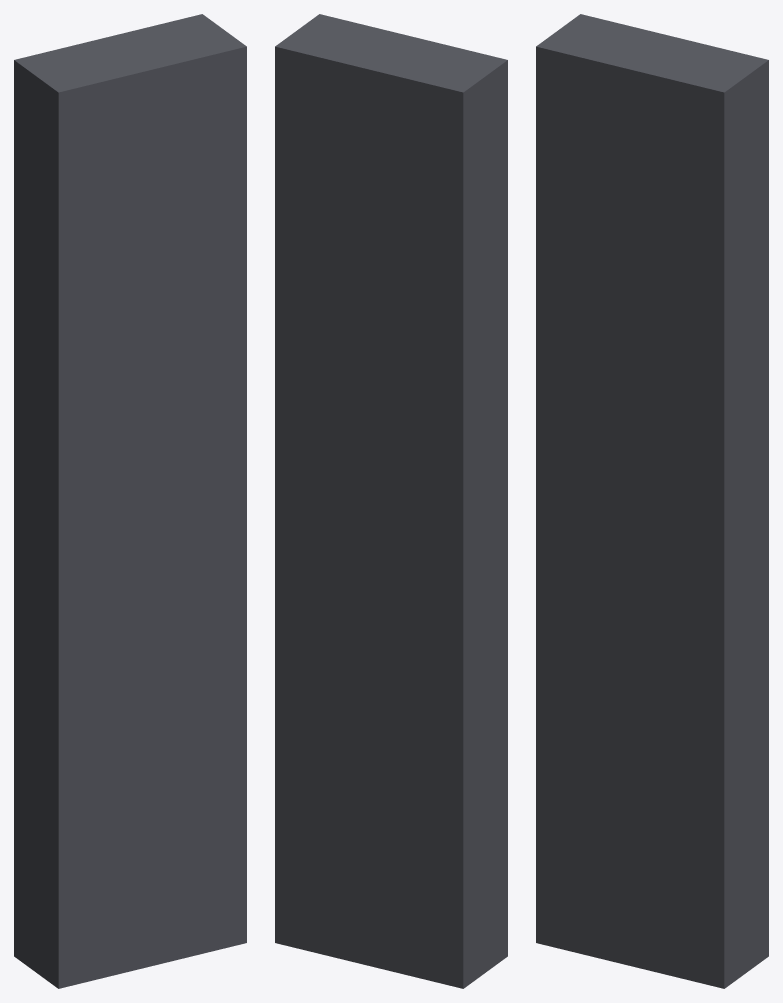
File: Mount_AR_CarryHandle.fbx
3 renders of one model, left to right at view 1: azimuth 30°, elevation 25°; view 2: azimuth 150°, elevation 25°; view 3: azimuth 330°, elevation 25°, orthographic.
Parts seen in each view (by area): view 1: prims; view 2: prims; view 3: prims.
Part boxes in pixels (x1,y1,x2,y2): prims: (14, 14, 246, 988); prims: (275, 14, 507, 988); prims: (536, 14, 768, 988).
Size of the model in its own units: 0.0132 by 0.06 by 0.0054.
